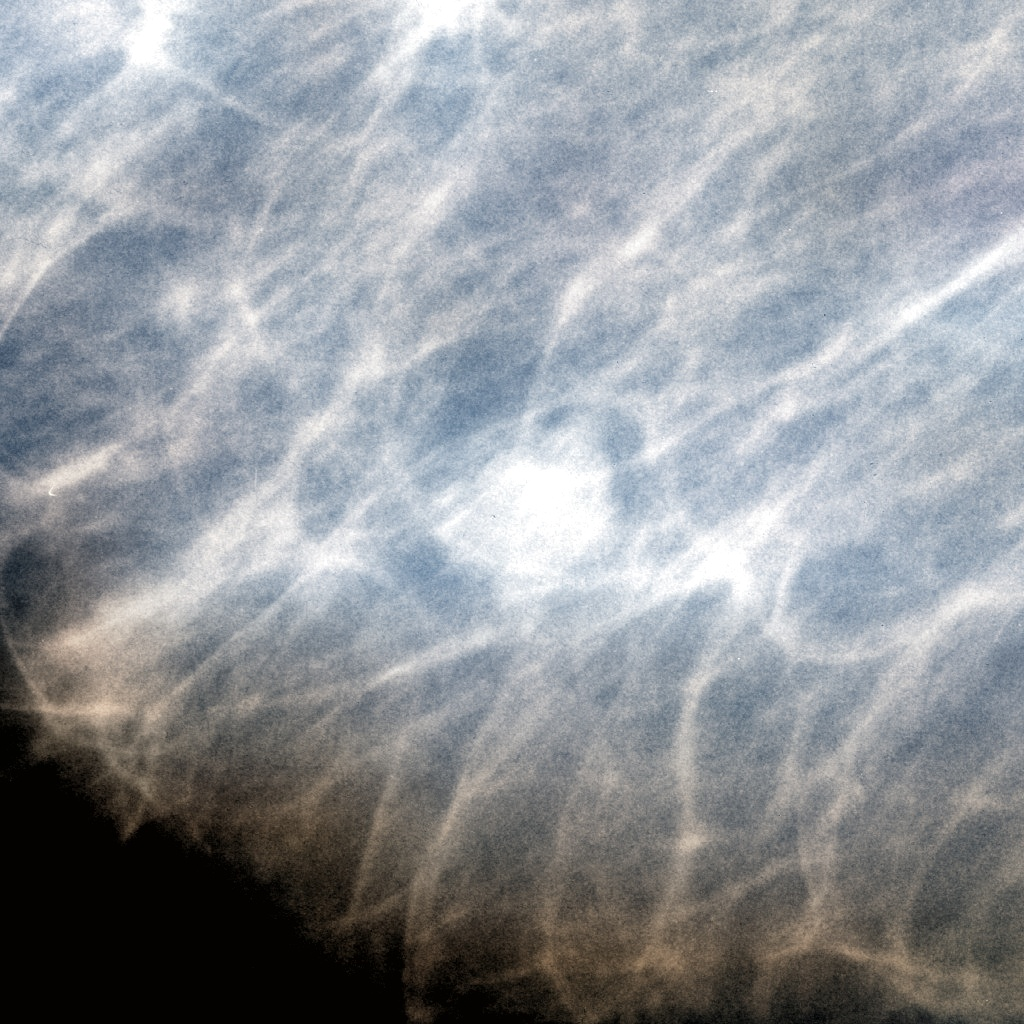tumor: (408, 388, 616, 636)
